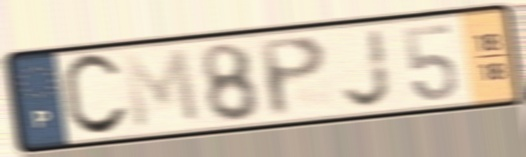5: (399, 19, 460, 103)
8: (199, 41, 262, 124)
C: (58, 50, 132, 140)
J: (338, 25, 396, 111)
M: (120, 45, 205, 134)
P: (254, 32, 330, 120)
